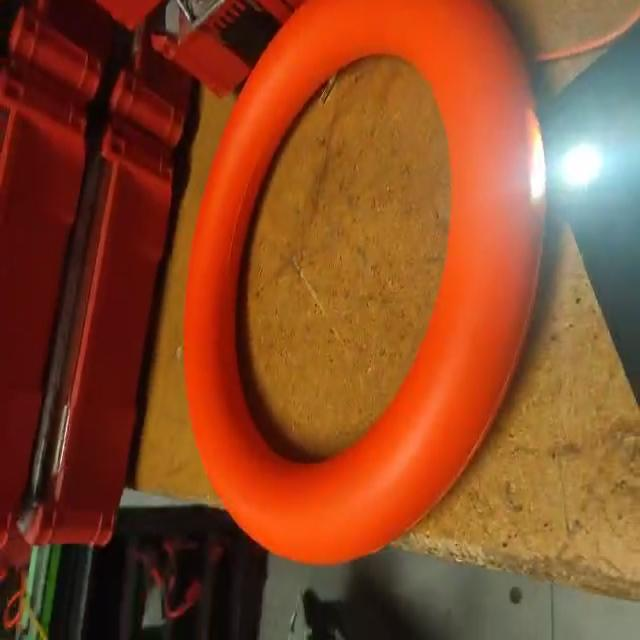note: (178, 0, 554, 571)
